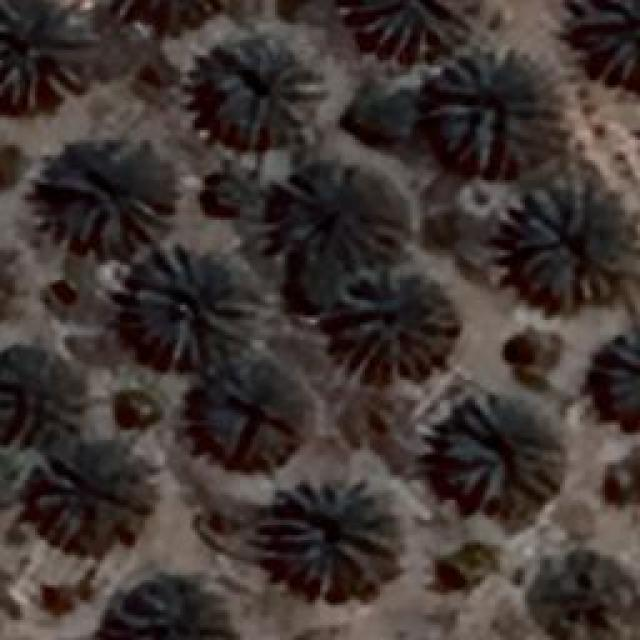PalmTree: (130, 242, 260, 370), (510, 175, 632, 310), (427, 47, 555, 175), (272, 472, 398, 598), (30, 432, 160, 550), (440, 390, 565, 510), (332, 265, 458, 380), (212, 32, 328, 150), (39, 155, 172, 250), (278, 165, 410, 258), (195, 354, 300, 468), (526, 546, 636, 636), (0, 0, 88, 110), (2, 346, 88, 454), (108, 578, 235, 638), (345, 0, 470, 52), (574, 2, 638, 82), (107, 1, 220, 39), (595, 330, 635, 428)
